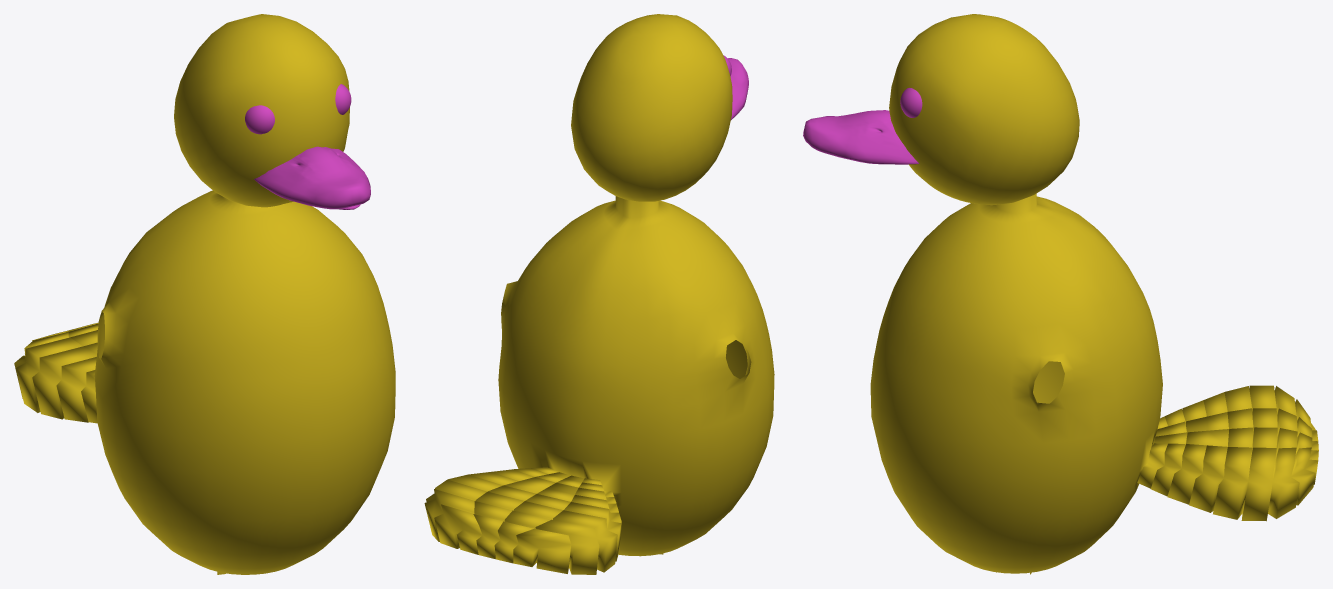
The model's file is body.obj.
3 renders of one model, left to right at view 1: azimuth 30°, elevation 25°; view 2: azimuth 150°, elevation 25°; view 3: azimuth 270°, elevation 25°, orthographic. The views are drawn at different scales.
Visible parts, largest first — view 1: Body, Beak.Top_Cube.001, Eye.Right_Eye.Right.001; view 2: Body, Beak.Top_Cube.001; view 3: Body, Beak.Top_Cube.001.
Part boxes in pixels (x1,y1,x2,y2): Body: (14,14,395,574); Beak.Top_Cube.001: (254,146,370,209); Eye.Right_Eye.Right.001: (245,105,274,134); Body: (424,14,774,574); Beak.Top_Cube.001: (728,58,748,119); Body: (870,14,1318,574); Beak.Top_Cube.001: (803,110,918,164).
Size of the model in its own units: 0.3058 by 0.6088 by 0.5252.
